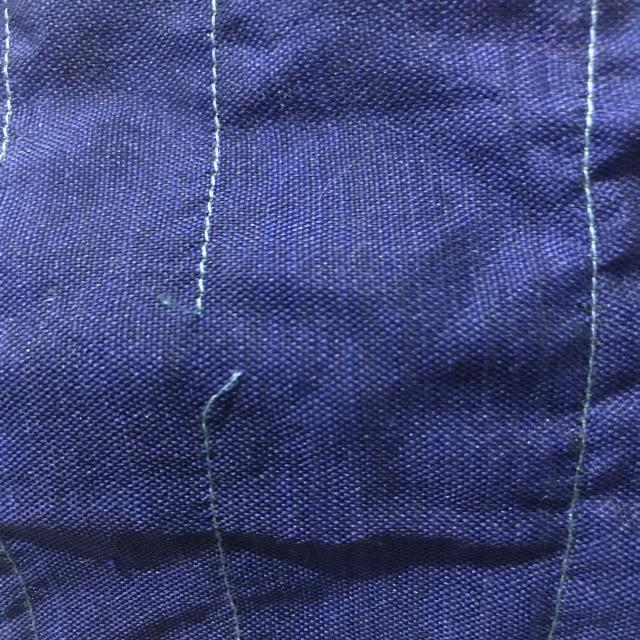broken: (143, 268, 261, 431)
good: (194, 162, 226, 253)
